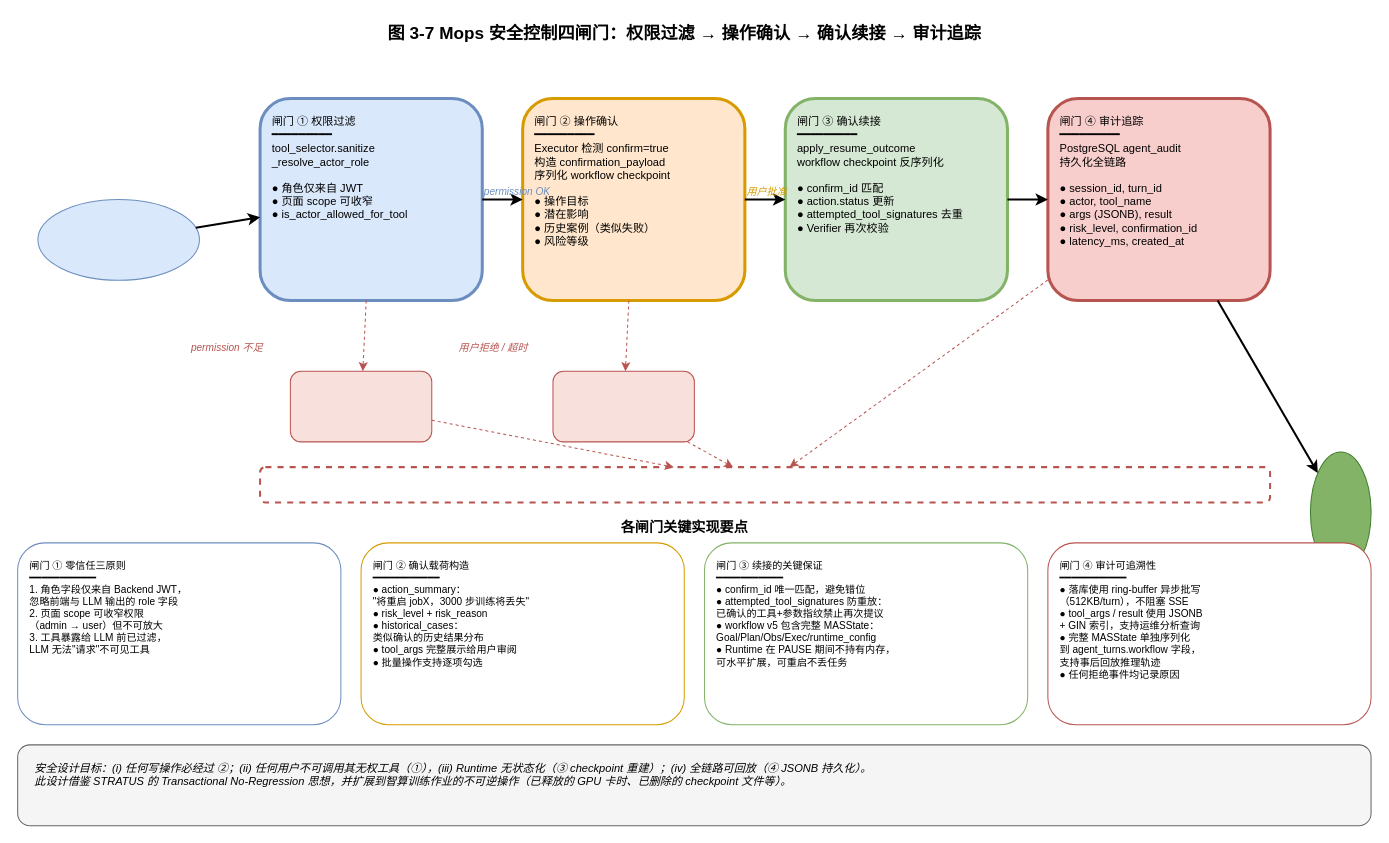
Image size: 1389x843. Some labels were removed from this diagram. Each missing label, with the centre of its shape:
LLM 生成工具调用 {tool_name, args}: (x=118, y=239)
✗ 拒绝 Coordinator 收到 action.rejected: (x=623, y=406)
✗ 拒绝 结构化错误 返回用户: (x=360, y=406)
工具实际执行 Backend 调用 K8s/Prom: (x=1340, y=512)
所有事件均写入审计（成功 / 拒绝 / 超时 / 错误）: (x=765, y=484)
